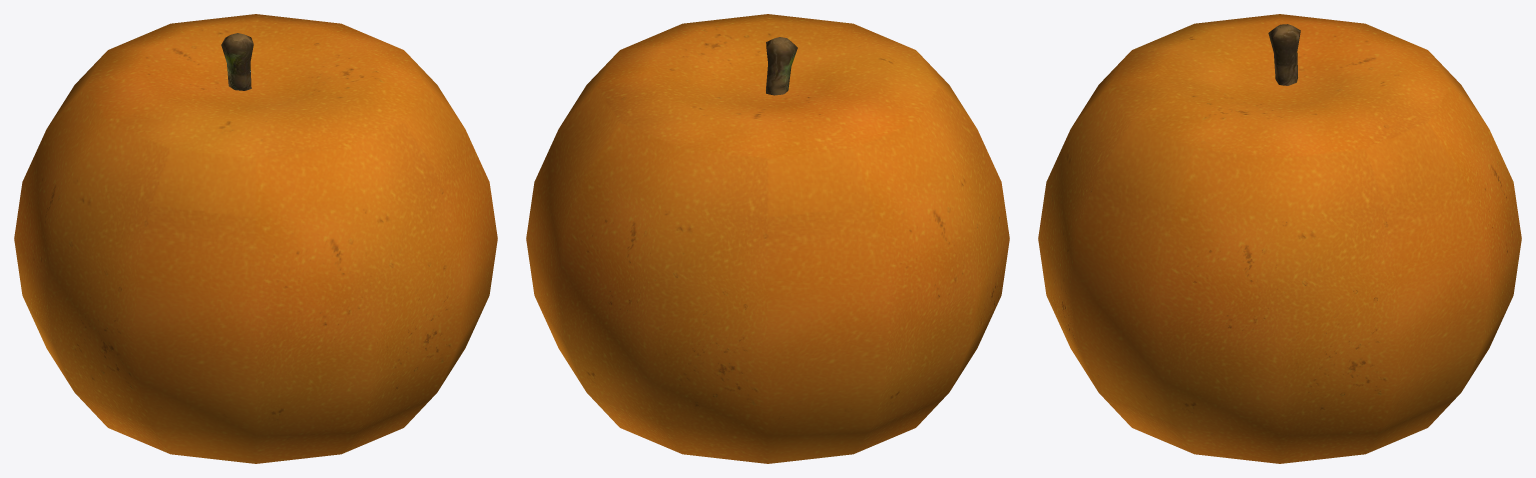
The model's file is Orange.fbx.
The picture shows the model from 3 angles, left to right: view 1: azimuth 30°, elevation 25°; view 2: azimuth 150°, elevation 25°; view 3: azimuth 270°, elevation 25°; orthographic projection.
Parts seen in each view (by area): view 1: Orange, Orange_stick; view 2: Orange, Orange_stick; view 3: Orange, Orange_stick.
Boxes of the visible parts, bbox=[...] form: Orange: bbox=[14, 14, 497, 463]; Orange_stick: bbox=[221, 33, 253, 90]; Orange: bbox=[526, 14, 1009, 463]; Orange_stick: bbox=[766, 37, 797, 95]; Orange: bbox=[1038, 14, 1521, 463]; Orange_stick: bbox=[1268, 24, 1300, 85].
Size of the model in its own units: 14.08 by 12.02 by 14.08.
Materials: 2 (2 with a texture image).
